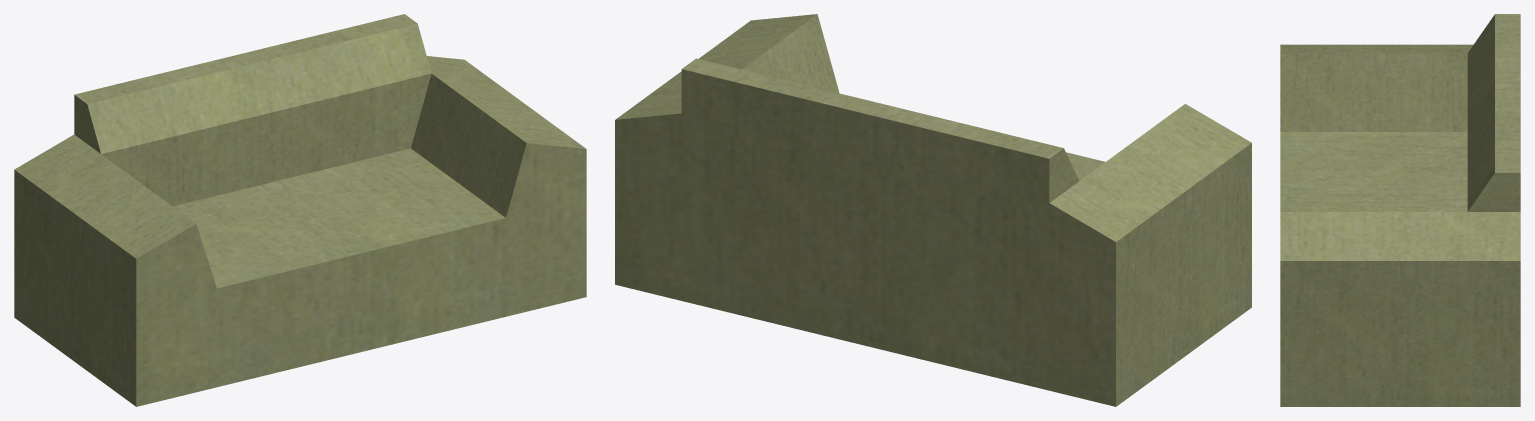
File: Couch_1.fbx
3 views of the same model, side by side, from view 1: azimuth 30°, elevation 25°; view 2: azimuth 150°, elevation 25°; view 3: azimuth 270°, elevation 25° (orthographic). The views are drawn at different scales.
Visible parts, largest first — view 1: Sectional_Chair_Green_01; view 2: Sectional_Chair_Green_01; view 3: Sectional_Chair_Green_01.
Part boxes in pixels (x1,y1,x2,y2): Sectional_Chair_Green_01: (14, 14, 586, 406); Sectional_Chair_Green_01: (615, 14, 1251, 406); Sectional_Chair_Green_01: (1280, 14, 1520, 406).
Size of the model in its own units: 2.33 by 1.03 by 1.09.
